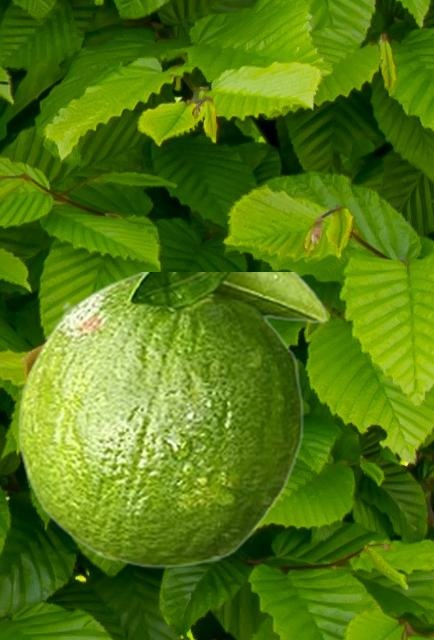dalandan: (17, 272, 327, 567)
